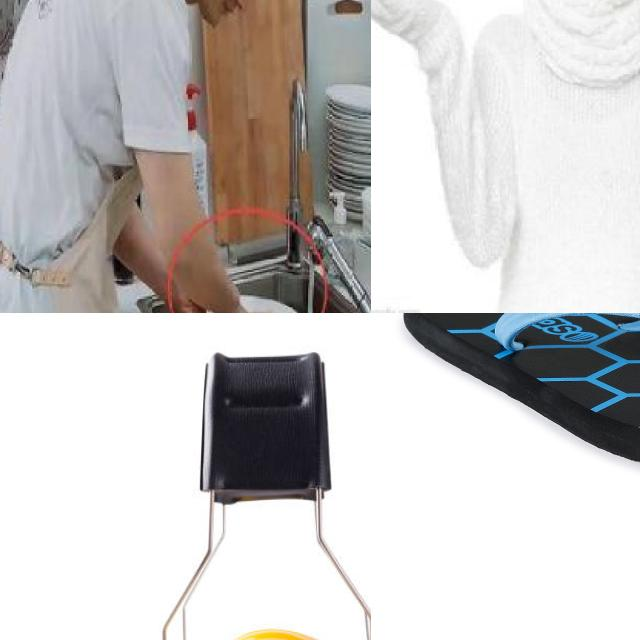Ear-protection: (141, 330, 371, 640)
Sandals: (401, 313, 640, 487)
face_nomask: (186, 0, 267, 28)
hand_glove: (371, 0, 431, 53)
hand_noglove: (180, 289, 224, 313), (241, 301, 280, 313)
person: (0, 0, 314, 313), (371, 0, 640, 313)
